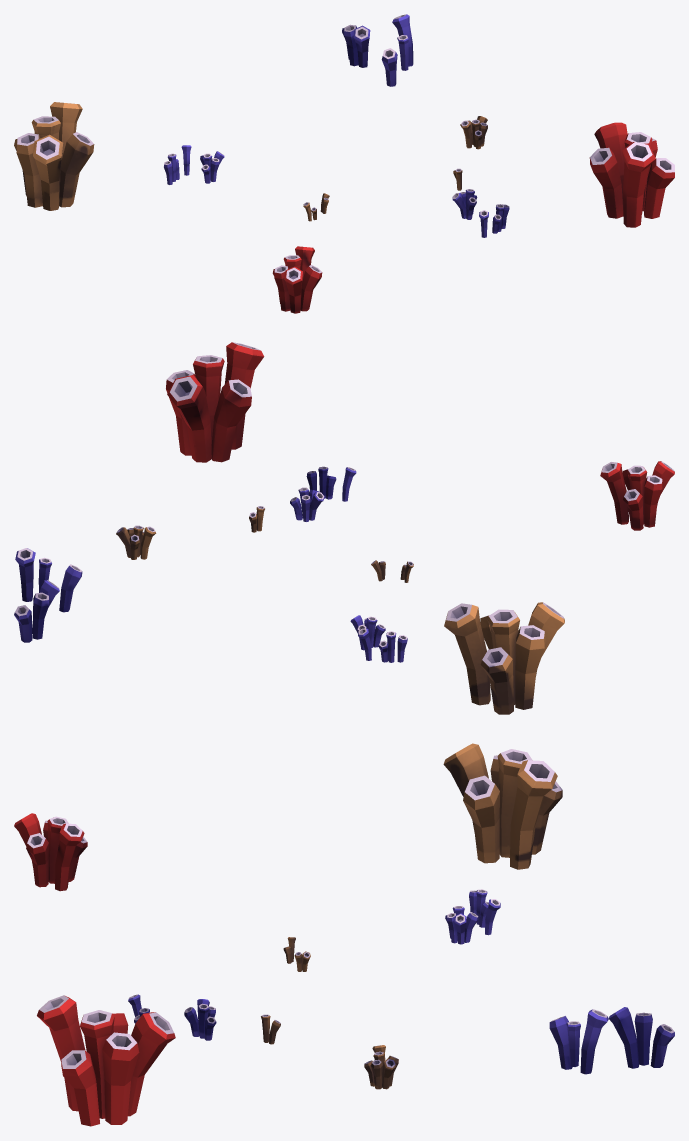
File: Plant_01.FBX
The picture shows the model from 3 angles, top to bottom: view 1: azimuth 30°, elevation 25°; view 2: azimuth 150°, elevation 25°; view 3: azimuth 270°, elevation 25°; orthographic projection. The views are drawn at different scales.
Visible parts, largest first — view 1: Plant_01; view 2: Plant_01; view 3: Plant_01.
Boxes of the visible parts, <box> form: Plant_01: <box>14,14,674,313</box>; Plant_01: <box>14,342,674,714</box>; Plant_01: <box>14,743,674,1126</box>.
Bounding box in the file's own units: 22.79 × 3.85 × 21.26.
